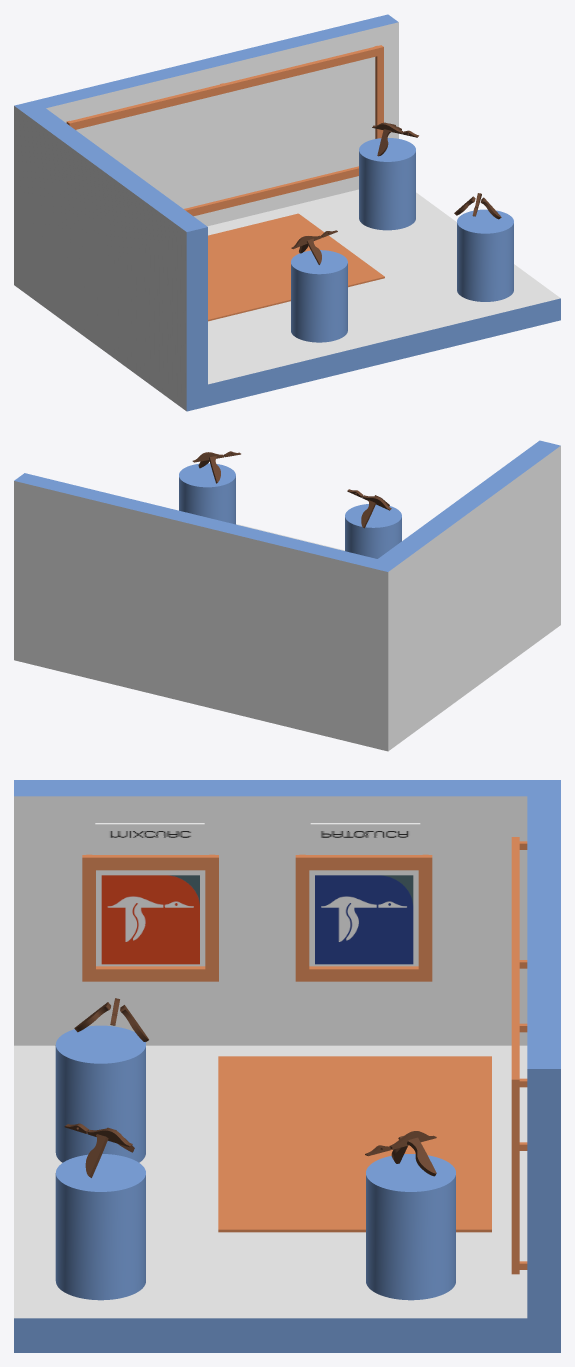
Rendered from escaparate_modelo.glb.
3 renders of one model, top to bottom at view 1: azimuth 30°, elevation 25°; view 2: azimuth 150°, elevation 25°; view 3: azimuth 270°, elevation 25°, orthographic. The views are drawn at different scales.
Parts seen in each view (by area): view 1: PAREDES, VIDRIO, PISO, STAGE, TAPETE, MARCO, MUEBLE_2, MUEBLE_3, MUEBLE_1; view 2: PAREDES, STAGE, MUEBLE_2, MUEBLE_3; view 3: PAREDES, PISO, STAGE, TAPETE, MARCO (×3), IMAGEN (×2), MUEBLE_2, MUEBLE_1, MUEBLE_3, LETRERO (×2).
Boxes of the visible parts, <box> form: PAREDES: <box>14,22,398,410</box>; VIDRIO: <box>76,57,375,208</box>; PISO: <box>207,189,560,384</box>; STAGE: <box>14,14,560,411</box>; TAPETE: <box>208,213,384,321</box>; MARCO: <box>66,45,383,216</box>; MUEBLE_2: <box>457,209,513,301</box>; MUEBLE_3: <box>291,250,347,342</box>; MUEBLE_1: <box>359,138,415,230</box>; PAREDES: <box>14,446,560,751</box>; STAGE: <box>14,440,560,571</box>; MUEBLE_2: <box>179,463,235,524</box>; MUEBLE_3: <box>345,504,401,558</box>; PAREDES: <box>14,796,527,1045</box>; PISO: <box>14,1045,527,1318</box>; STAGE: <box>14,780,560,1352</box>; TAPETE: <box>218,1056,491,1232</box>; MARCO (×3): <box>82,837,527,1274</box>; IMAGEN (×2): <box>101,875,413,964</box>; MUEBLE_2: <box>55,1154,145,1300</box>; MUEBLE_1: <box>366,1154,455,1300</box>; MUEBLE_3: <box>55,1025,145,1162</box>; LETRERO (×2): <box>95,824,420,844</box>.
Size of the model in its own units: 5 by 2.29 by 4.
Materials: 9 (4 with a texture image).
